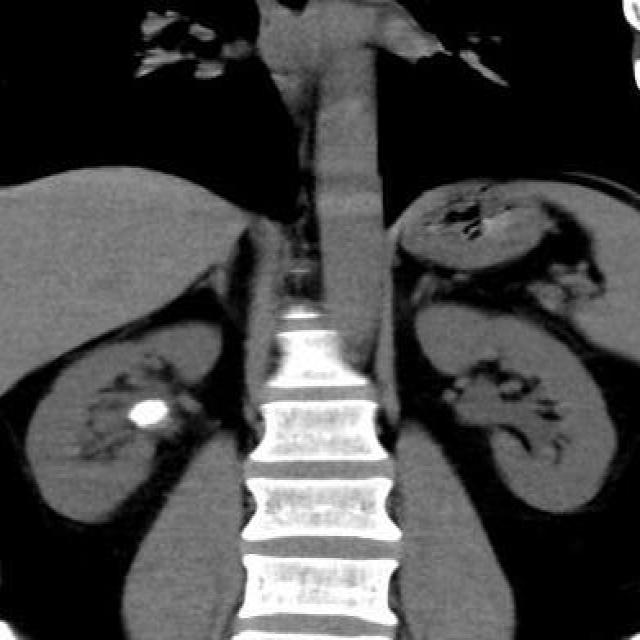Tas_Var: (128, 392, 174, 430)
